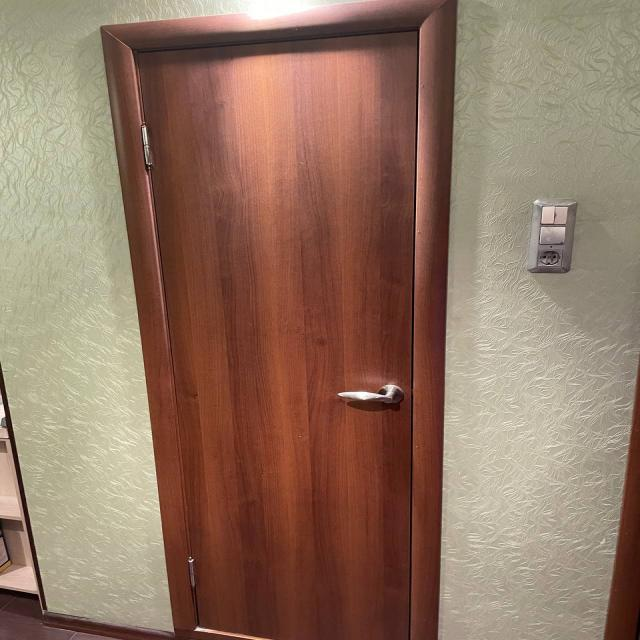close: (102, 29, 444, 638)
